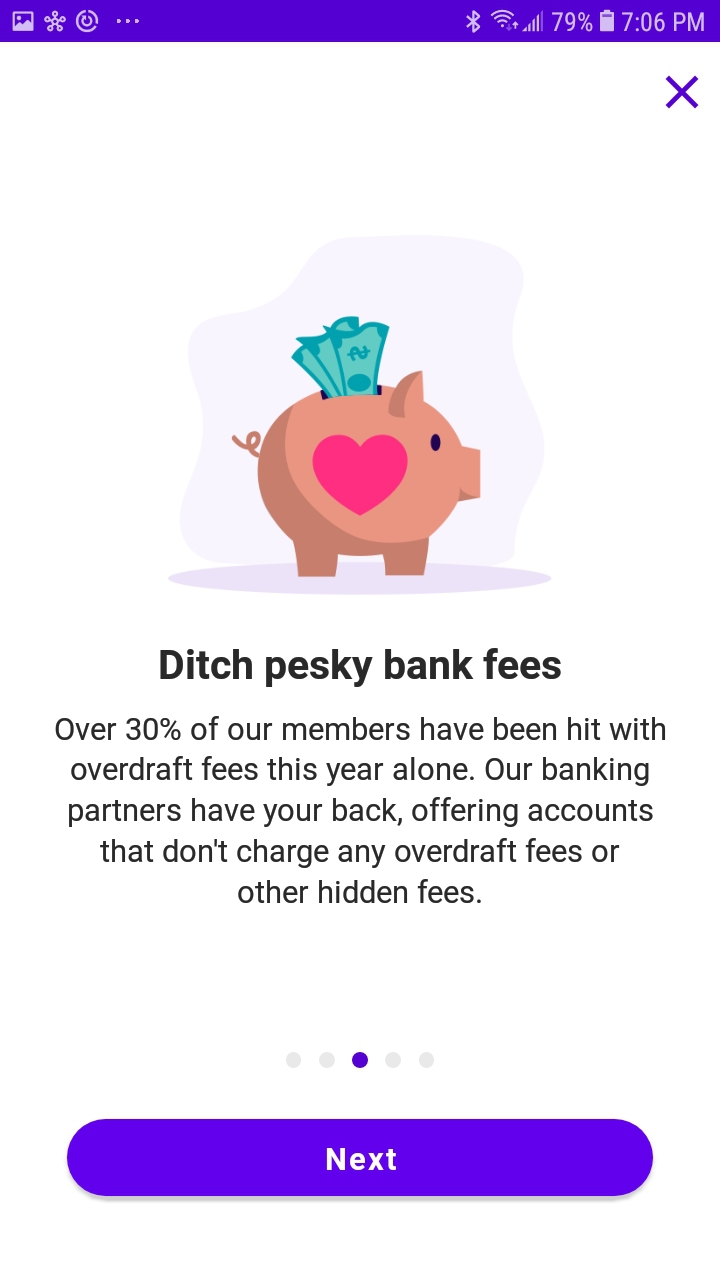Icon: (665, 76, 699, 110)
Image: (168, 235, 552, 596)
PageIndicator: (286, 1051, 435, 1069)
Text: (56, 717, 666, 904), (160, 648, 562, 688)
TextButton: (67, 1119, 654, 1197)
UpperTaskBar: (1, 1, 720, 43)
